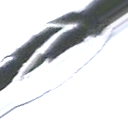crackTip: (1, 1, 128, 117)
